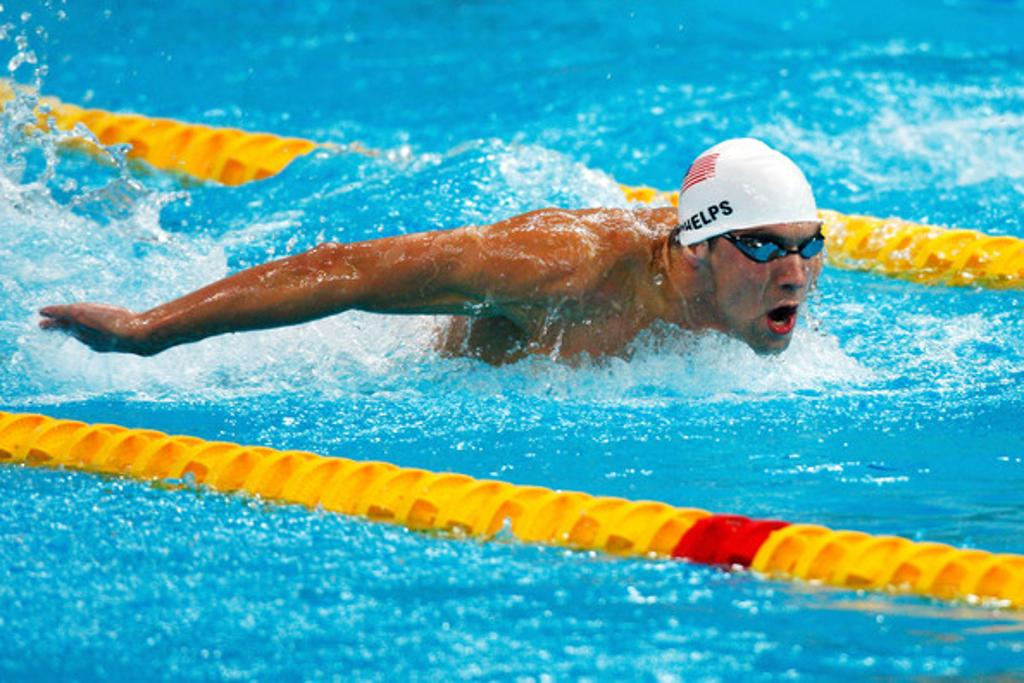face: (728, 208, 820, 356)
